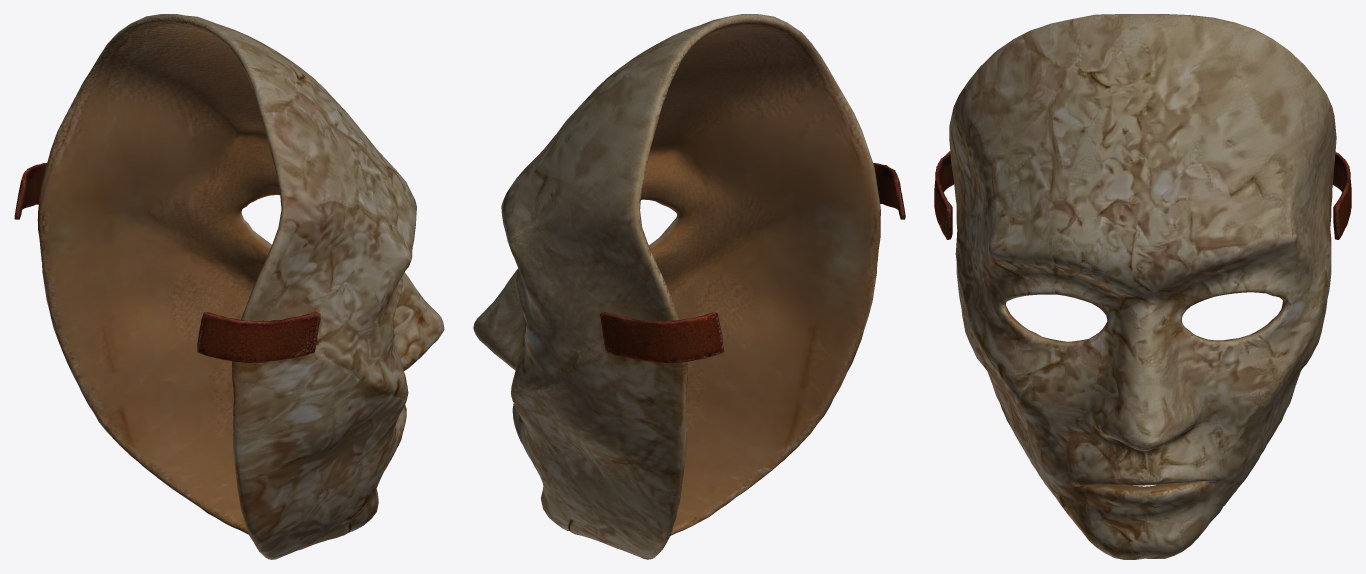
The picture shows the model from 3 angles, left to right: view 1: azimuth 30°, elevation 25°; view 2: azimuth 150°, elevation 25°; view 3: azimuth 270°, elevation 25°; orthographic projection. The views are drawn at different scales.
Parts seen in each view (by area): view 1: tripo_node_972aae77-3655-4463-ba12-876f086c4fb1; view 2: tripo_node_972aae77-3655-4463-ba12-876f086c4fb1; view 3: tripo_node_972aae77-3655-4463-ba12-876f086c4fb1.
Part boxes in pixels (left/top/right/bottom): tripo_node_972aae77-3655-4463-ba12-876f086c4fb1: left=14, top=14, right=444, bottom=559; tripo_node_972aae77-3655-4463-ba12-876f086c4fb1: left=473, top=14, right=905, bottom=559; tripo_node_972aae77-3655-4463-ba12-876f086c4fb1: left=934, top=14, right=1351, bottom=559.
Bounding box in the file's own units: 0.6777 × 0.998 × 0.7637.
1 material, 1 textured.
